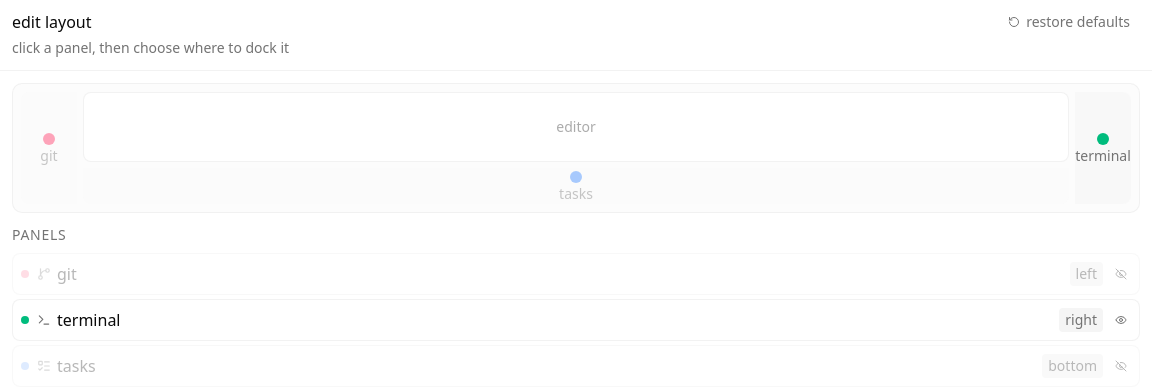
panel selection › clicking a panel updates instruction text
The width and height of the screenshot is (1152, 389).
Click the element showing "git left".
click(576, 274)  # box [12,253,1140,295]
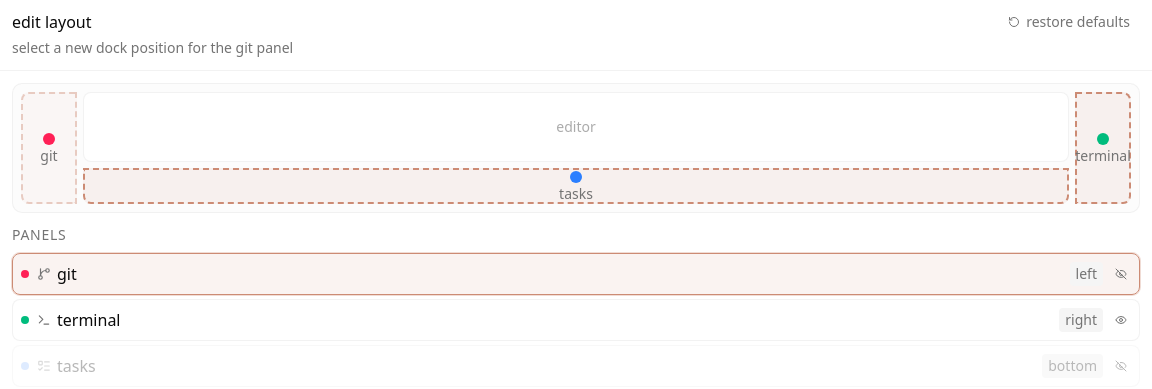
Now the text "select a new dock position for the git panel" is shown, box [12,38,293,57]
